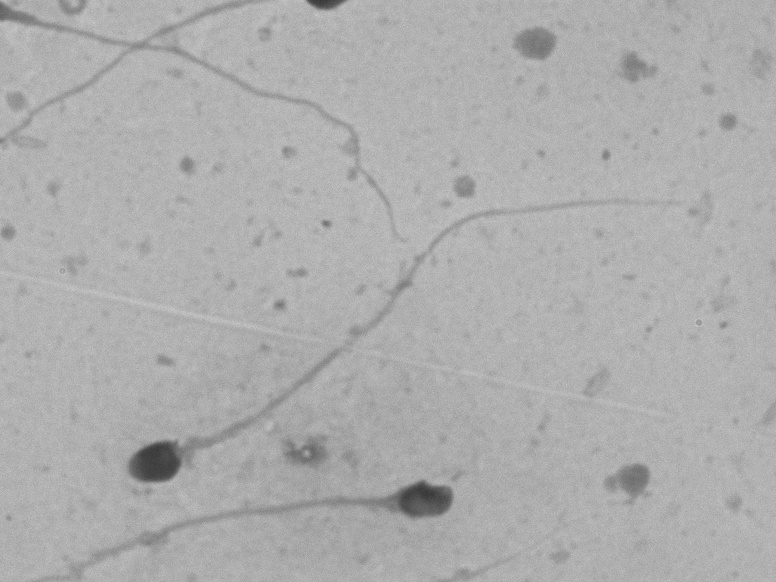Abnormal: (113, 175, 724, 495), (66, 467, 472, 574)
